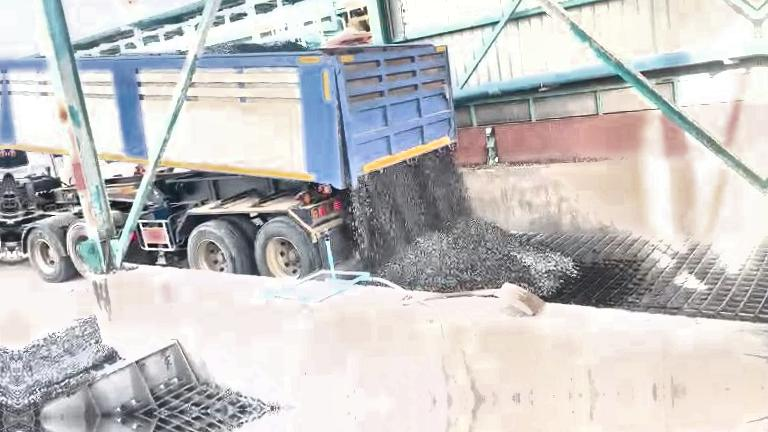gravel: (352, 151, 577, 296), (18, 316, 120, 413), (207, 40, 311, 54)
